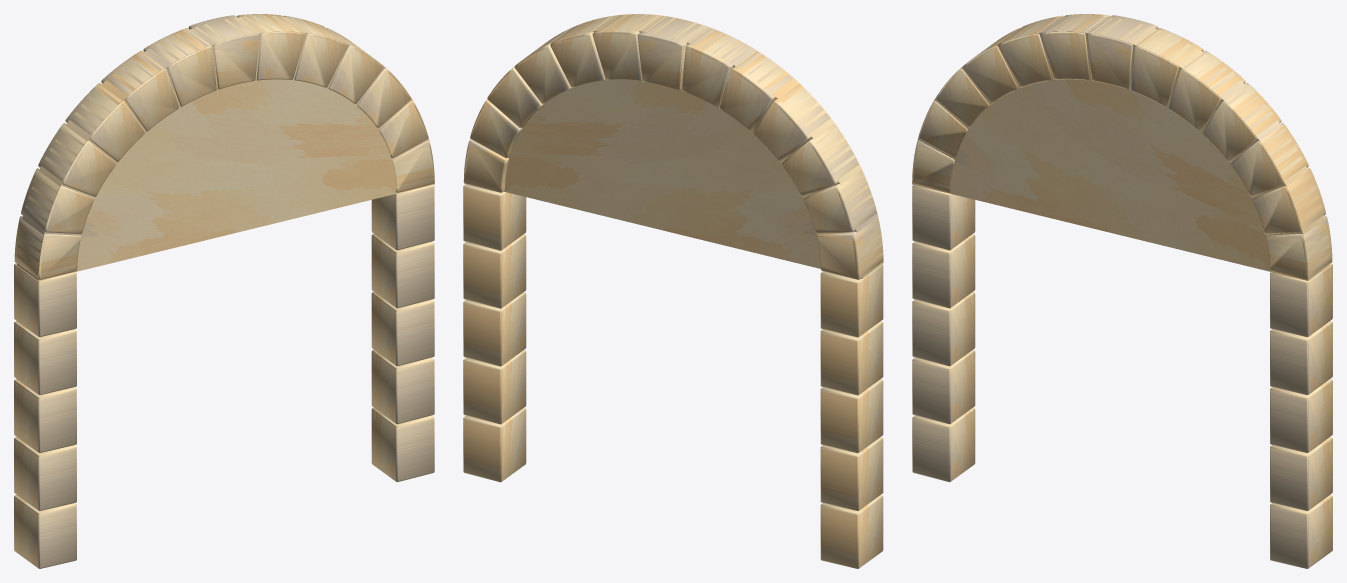
Rendered from CM_R06_EntranceMasonry.fbx.
The picture shows the model from 3 angles, left to right: view 1: azimuth 30°, elevation 25°; view 2: azimuth 150°, elevation 25°; view 3: azimuth 330°, elevation 25°; orthographic projection.
Visible parts, largest first — view 1: CM_R06_EntranceMasonry; view 2: CM_R06_EntranceMasonry; view 3: CM_R06_EntranceMasonry.
Part boxes in pixels (left/top/right/bottom): CM_R06_EntranceMasonry: left=14, top=14, right=434, bottom=568; CM_R06_EntranceMasonry: left=463, top=14, right=883, bottom=568; CM_R06_EntranceMasonry: left=912, top=14, right=1332, bottom=568.
Size of the model in its own units: 2.55 by 2.97 by 0.289.
